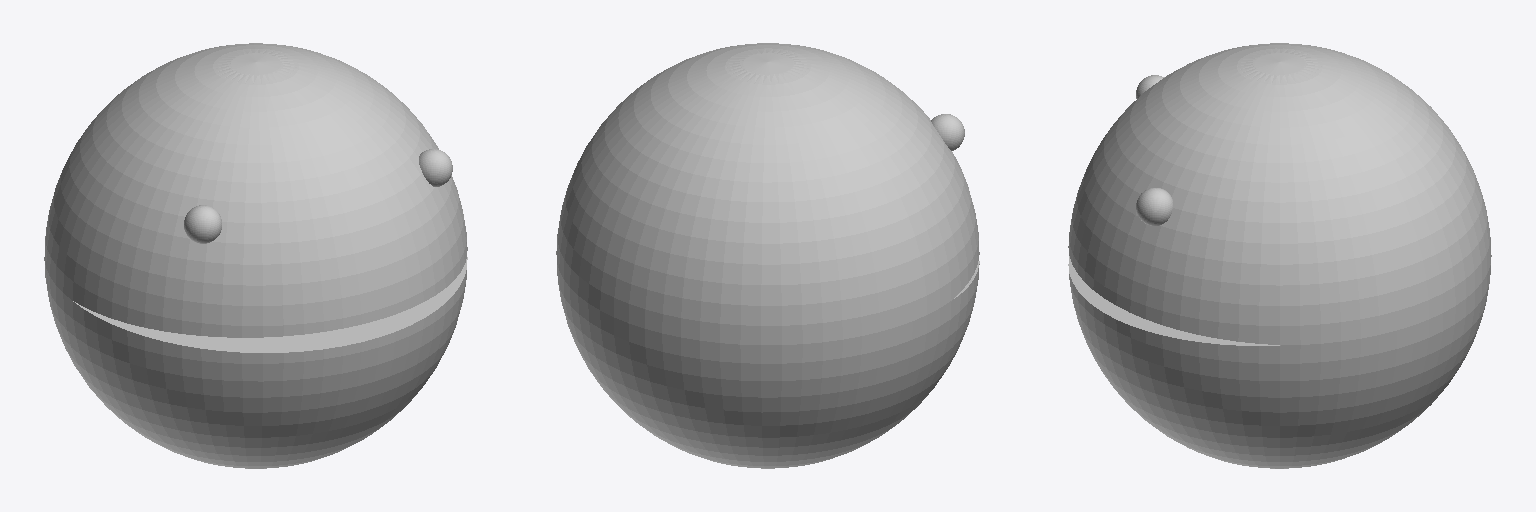
Rendered from pacman0002.obj.
The picture shows the model from 3 angles: view 1: azimuth 30°, elevation 25°; view 2: azimuth 150°, elevation 25°; view 3: azimuth 270°, elevation 25°; orthographic projection.
Visible parts, largest first — view 1: Body, Eyes; view 2: Body, Eyes; view 3: Body, Eyes.
Boxes of the visible parts, box(x1,y1,x2,y2) form: Body: box(44, 43, 467, 468); Eyes: box(184, 149, 452, 243); Body: box(556, 43, 979, 468); Eyes: box(931, 114, 964, 150); Body: box(1068, 43, 1491, 468); Eyes: box(1136, 75, 1172, 225).
Bounding box in the file's own units: 6.6 × 6.67 × 6.59.